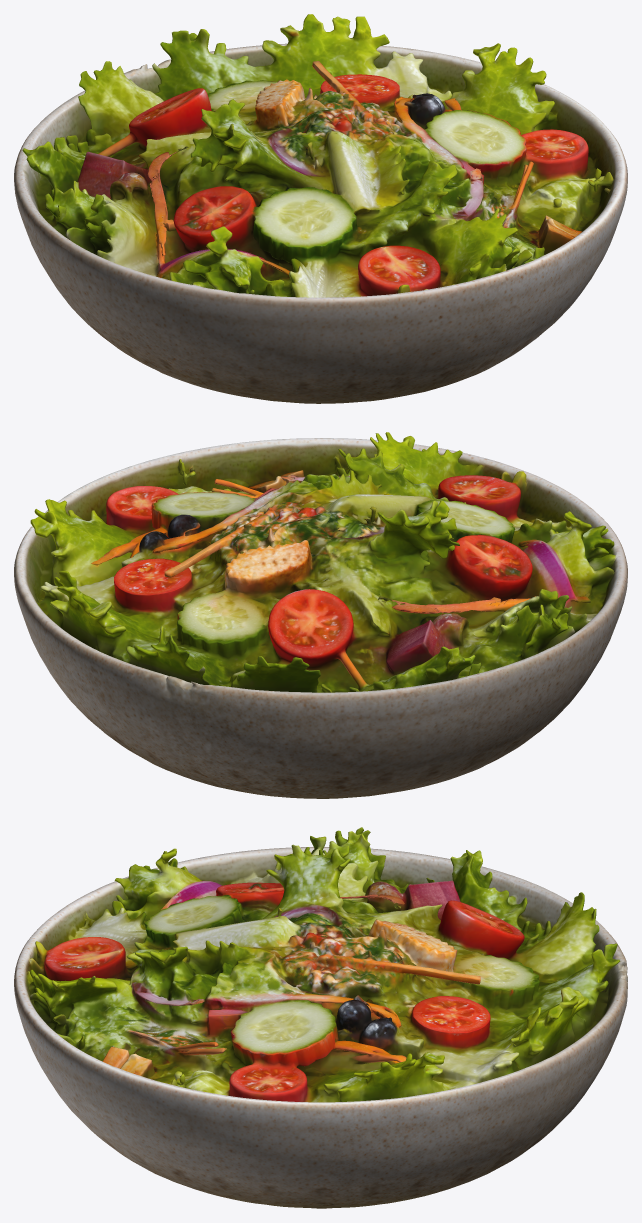
Rendered from saladbowl.glb.
3 renders of one model, top to bottom at view 1: azimuth 30°, elevation 25°; view 2: azimuth 150°, elevation 25°; view 3: azimuth 270°, elevation 25°, orthographic.
Parts seen in each view (by area): view 1: tripo_node_306df02e-be2e-41aa-91b2-6c1dd0d77c04; view 2: tripo_node_306df02e-be2e-41aa-91b2-6c1dd0d77c04; view 3: tripo_node_306df02e-be2e-41aa-91b2-6c1dd0d77c04.
Boxes of the visible parts, bbox=[...] form: tripo_node_306df02e-be2e-41aa-91b2-6c1dd0d77c04: bbox=[14, 14, 627, 403]; tripo_node_306df02e-be2e-41aa-91b2-6c1dd0d77c04: bbox=[14, 432, 627, 798]; tripo_node_306df02e-be2e-41aa-91b2-6c1dd0d77c04: bbox=[14, 827, 627, 1208].
Bounding box in the file's own units: 1 × 0.4493 × 0.9975.
1 material, 1 textured.
